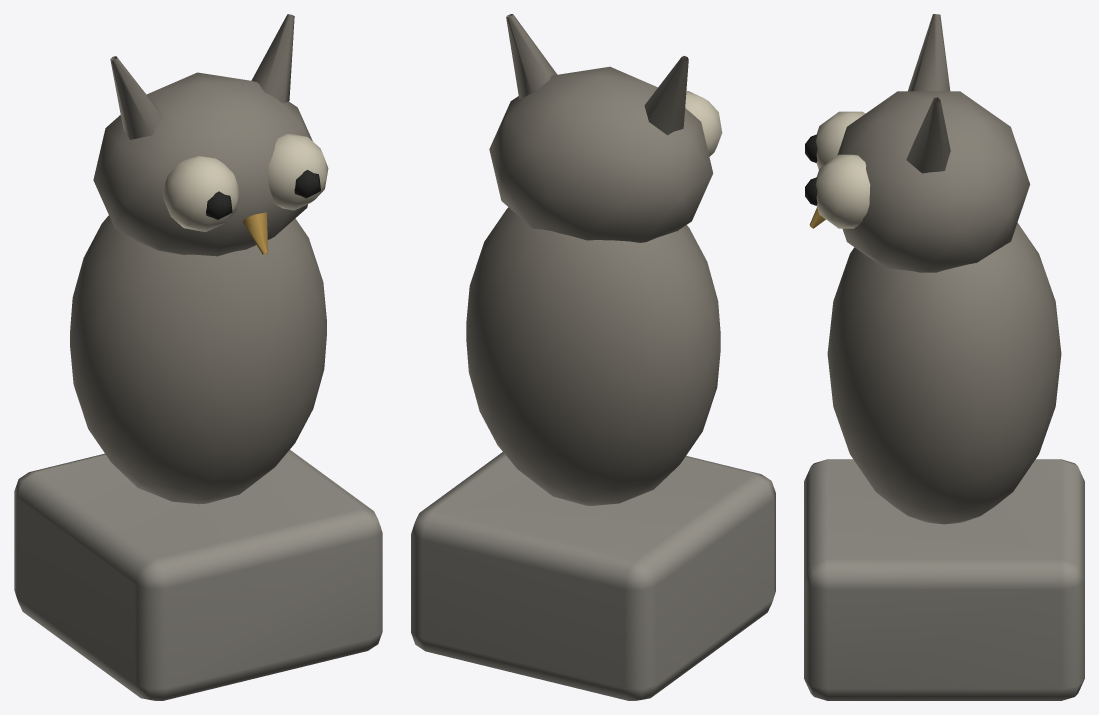
Rendered from furn_od_owl.glb.
The picture shows the model from 3 angles, left to right: view 1: azimuth 30°, elevation 25°; view 2: azimuth 150°, elevation 25°; view 3: azimuth 270°, elevation 25°; orthographic projection.
Parts seen in each view (by area): view 1: furn_od_owl_main; view 2: furn_od_owl_main; view 3: furn_od_owl_main.
Boxes of the visible parts, x1,y1,x2,y2 form: furn_od_owl_main: [14, 14, 382, 700]; furn_od_owl_main: [411, 14, 775, 700]; furn_od_owl_main: [804, 14, 1084, 700].
Size of the model in its own units: 0.36 by 0.8417 by 0.36.
